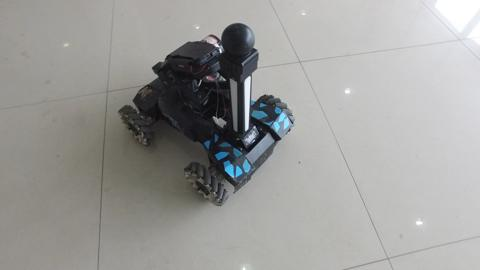chariot: (108, 17, 307, 216)
